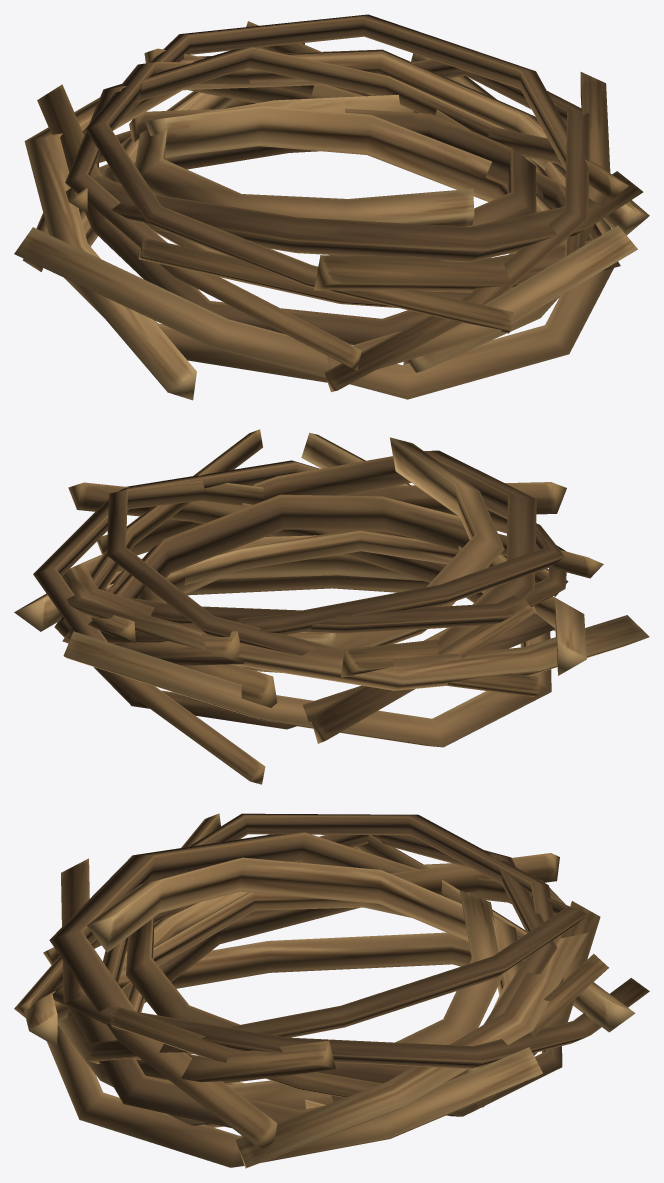
The model's file is Nest_01.fbx.
The picture shows the model from 3 angles, top to bottom: view 1: azimuth 30°, elevation 25°; view 2: azimuth 150°, elevation 25°; view 3: azimuth 270°, elevation 25°; orthographic projection. The views are drawn at different scales.
Parts seen in each view (by area): view 1: Nest_01; view 2: Nest_01; view 3: Nest_01.
Boxes of the visible parts, x1=… form: Nest_01: x1=14, y1=14, x2=649, y2=400; Nest_01: x1=14, y1=429, x2=649, y2=784; Nest_01: x1=14, y1=813, x2=649, y2=1168.
Size of the model in its own units: 99.62 by 98.16 by 30.2.
